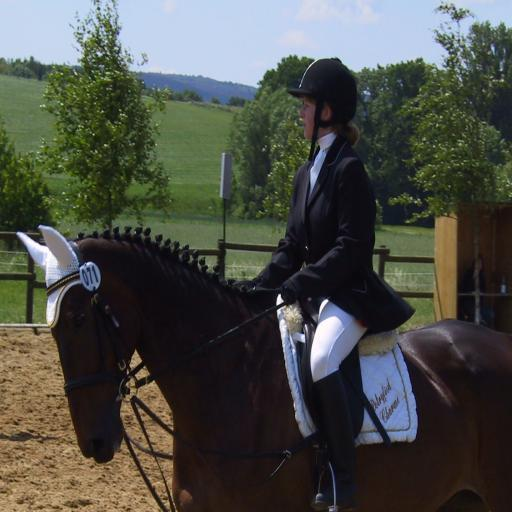horse: (15, 226, 512, 512)
